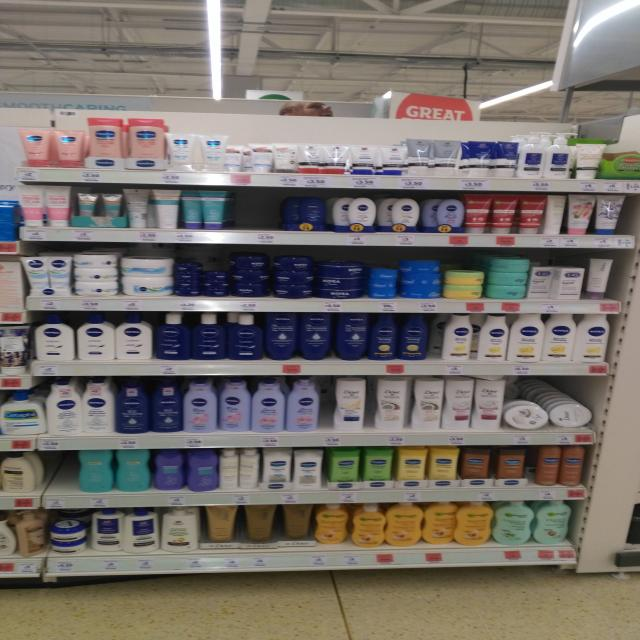empty: (230, 190, 288, 230), (34, 449, 77, 497)
